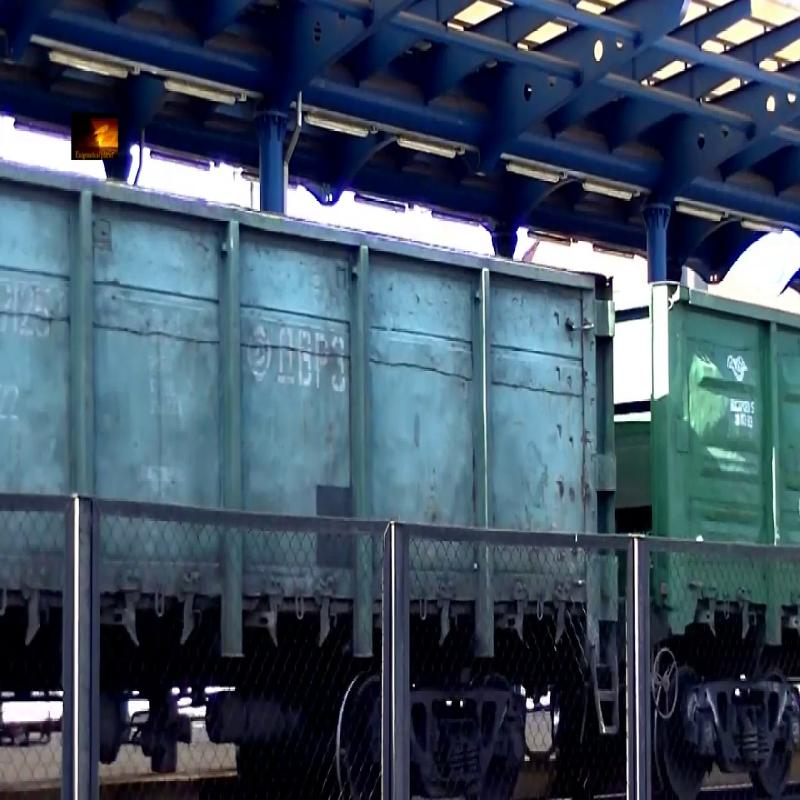train: (3, 49, 641, 773), (655, 48, 800, 771)
